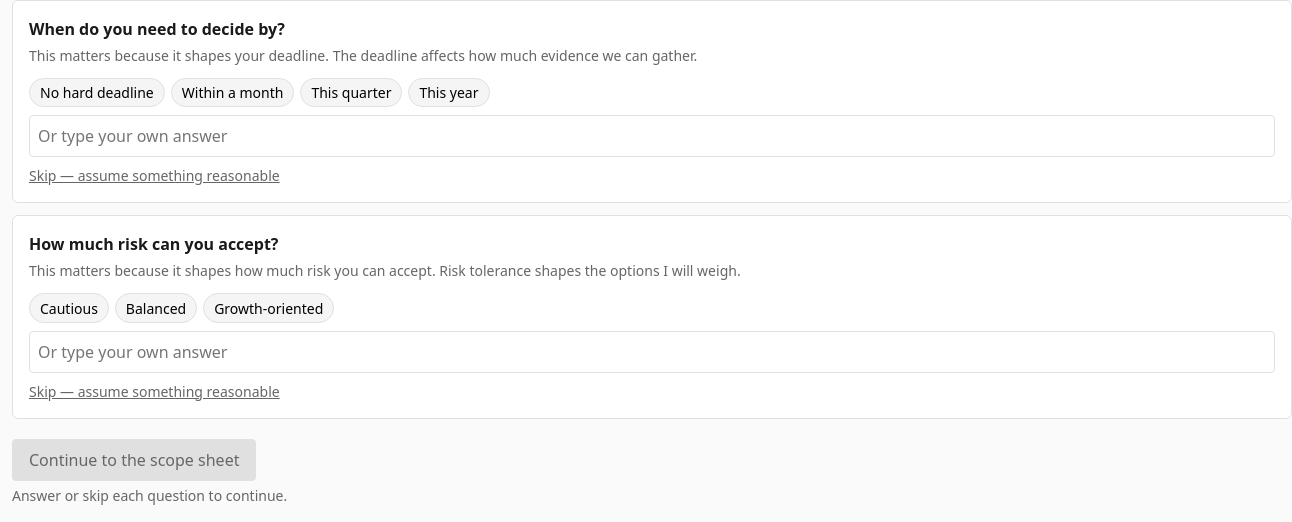
Scenario: InterviewCards › allows un-skipping a question
The width and height of the screenshot is (1292, 522).
Step 1. Click the button "Skip — assume something reasonable" below "When do you need to decide by?" → (154, 176), box [29,165,280,186]
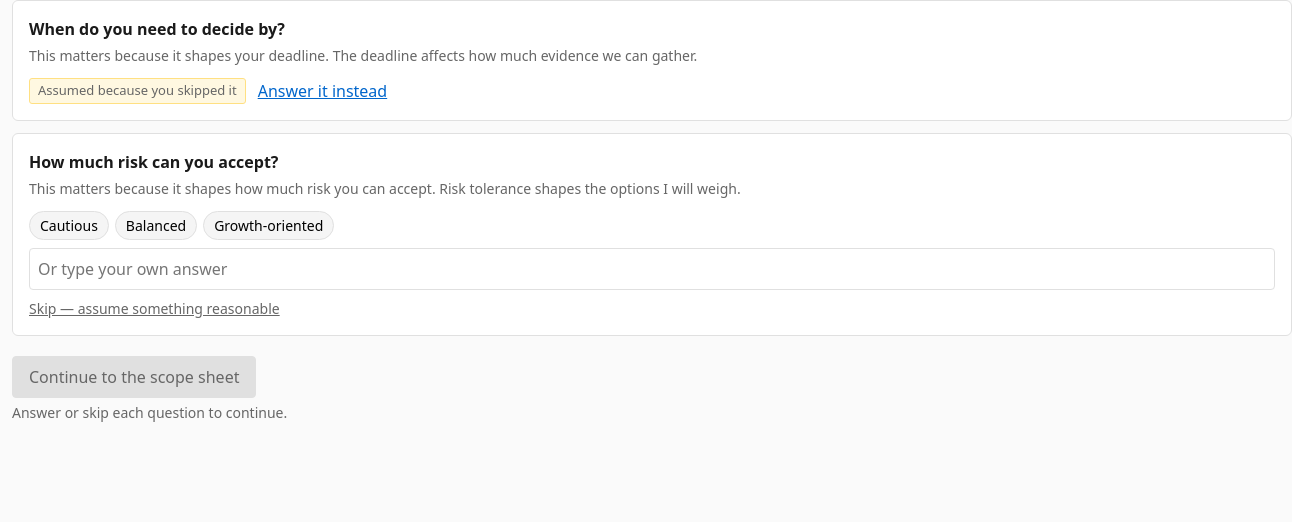
Step 2. Click the button "Answer it instead" → (322, 91), box [258,79,387,103]
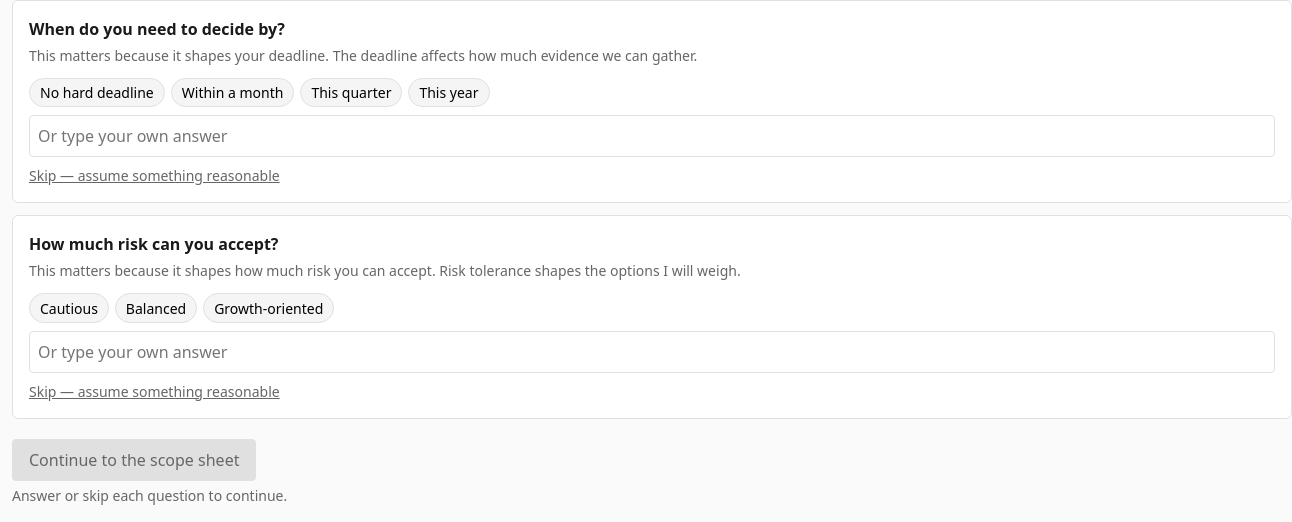
Expected: the number of buttons "Skip — assume something reasonable" is 2, [29,165,280,186]; [29,381,280,402]
